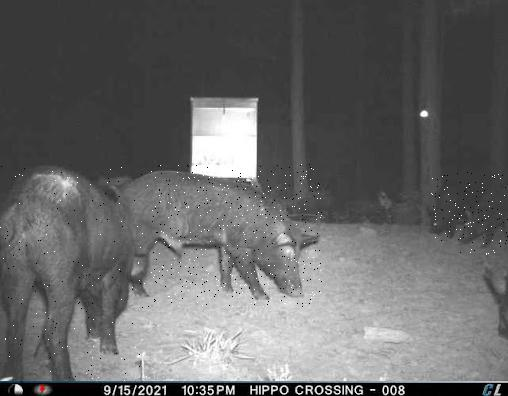Hog: (0, 164, 151, 382), (101, 164, 322, 307), (453, 171, 508, 255), (431, 174, 468, 241)
